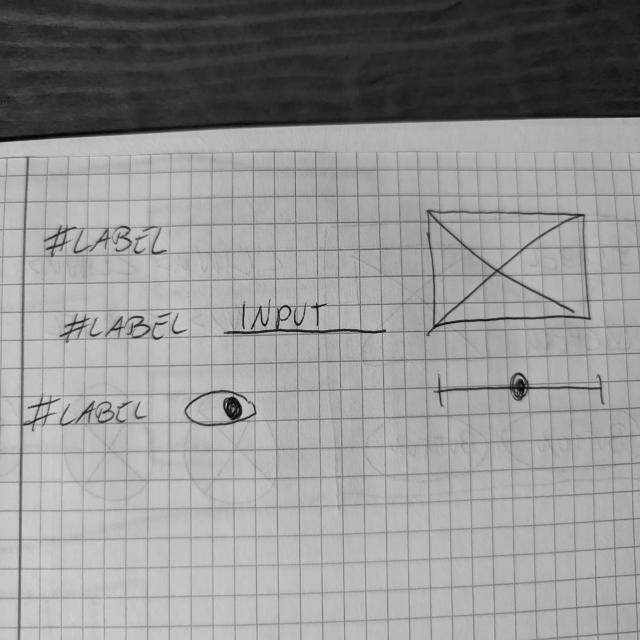input: (223, 296, 391, 340)
label: (43, 222, 172, 262), (23, 394, 151, 434), (60, 310, 189, 347)
toggle: (185, 388, 260, 430)
